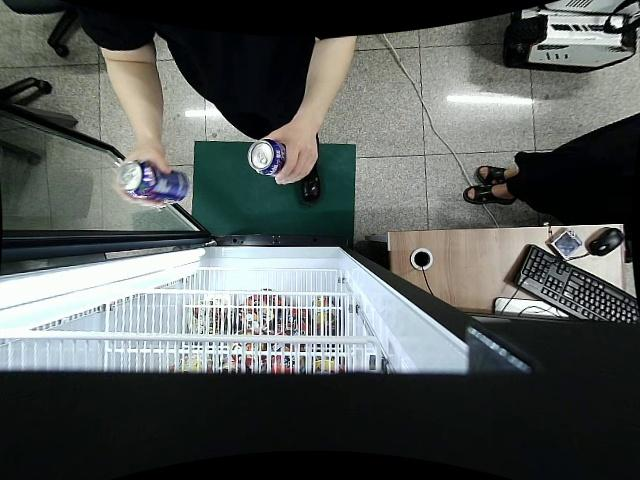00_hand: (110, 145, 172, 210), (263, 122, 319, 187)
14_welchsGrape: (115, 159, 189, 203), (248, 140, 287, 177)
